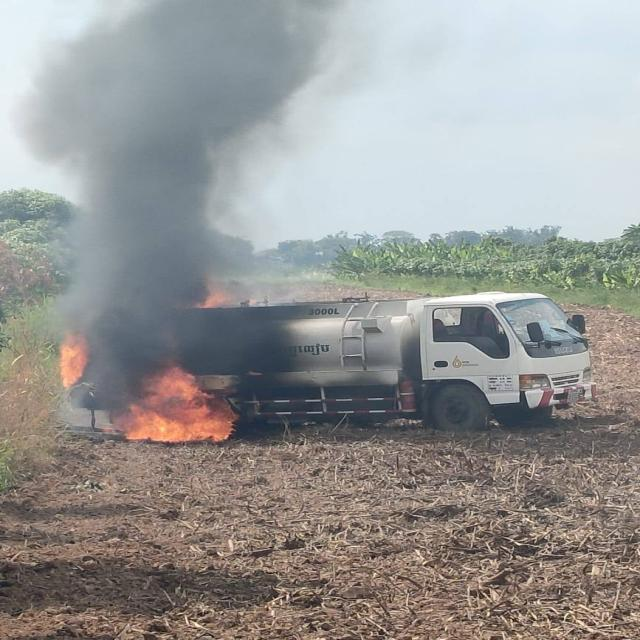fire: (124, 376, 234, 444)
smoke: (84, 48, 198, 352)
